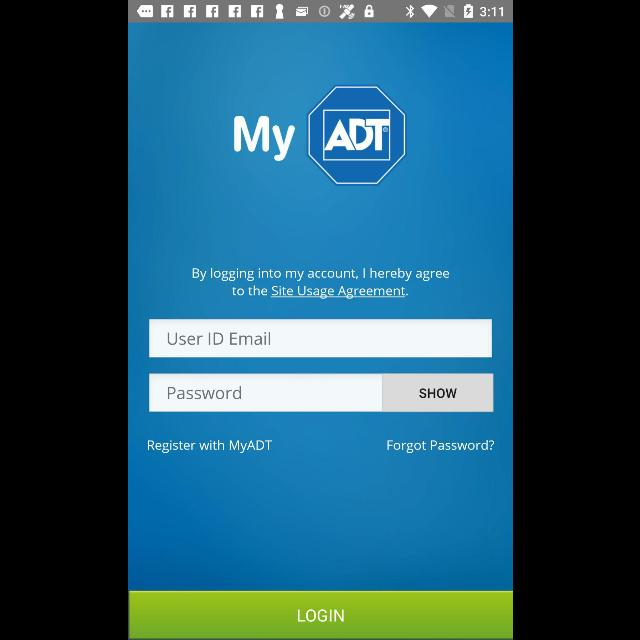image: (306, 85, 406, 187)
input: (148, 319, 492, 357), (148, 373, 382, 412)
text: (192, 268, 448, 300), (233, 116, 295, 162), (146, 441, 272, 454), (386, 440, 494, 454), (166, 332, 270, 346), (168, 386, 240, 399)
textbutton: (128, 590, 512, 640), (381, 374, 493, 412)
uppertaskbar: (128, 1, 512, 23)
